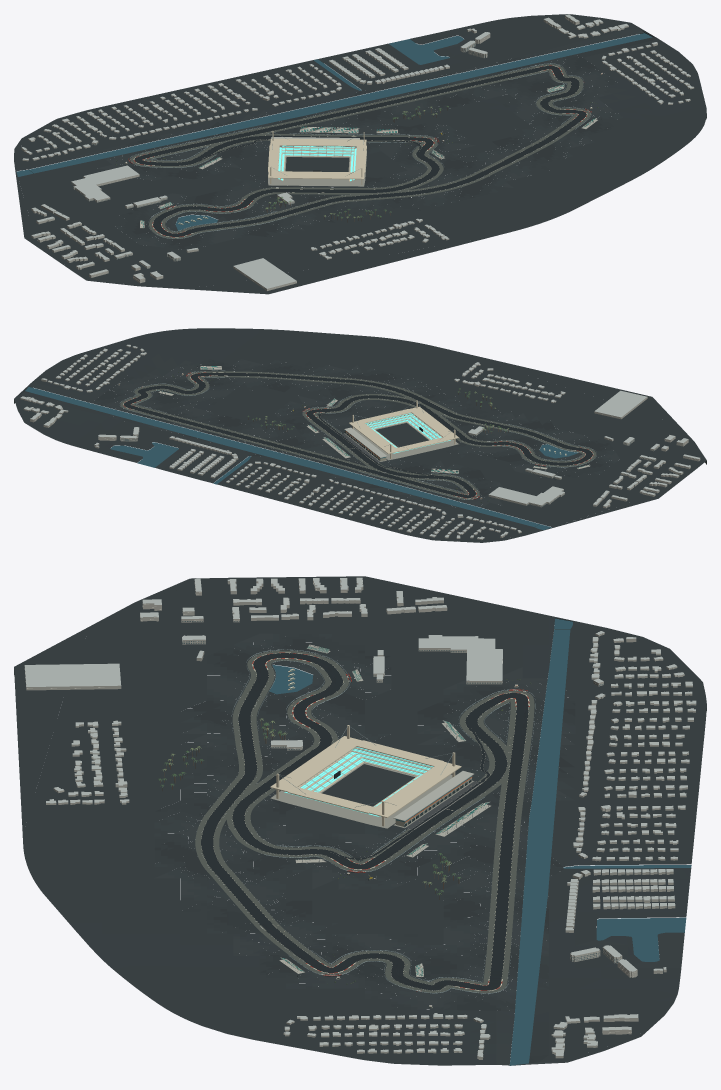
File: Miami.glb
The picture shows the model from 3 angles, top to bottom: view 1: azimuth 30°, elevation 25°; view 2: azimuth 150°, elevation 25°; view 3: azimuth 270°, elevation 25°; orthographic projection. The views are drawn at different scales.
Parts seen in each view (by area): view 1: terrain/ground, terrain-ground-finish-1, road/asphalt, terrain-ground-finish-3, terrain-ground-finish-2, runoff/runoff, terrain-ground-finish-0, terrain-ground-finish-4, water-2/water, terrain-extension/land, shoulder/runoff, hero-01/cream (+10 smaller); view 2: terrain/ground, terrain-ground-finish-1, road/asphalt, terrain-ground-finish-2, terrain-ground-finish-3, runoff/runoff, terrain-ground-finish-0, terrain-ground-finish-4, water-2/water, terrain-extension/land, shoulder/runoff, hero-01/cream (+10 smaller); view 3: terrain/ground, terrain-ground-finish-1, road/asphalt, terrain-ground-finish-2, terrain-ground-finish-3, runoff/runoff, terrain-ground-finish-0, terrain-ground-finish-4, water-2/water, terrain-extension/land, hero-01/cream, shoulder/runoff (+14 smaller).
Part boxes in pixels (box(x1,y1,x2,y2)): terrain/ground: box(14, 15, 706, 287); terrain-ground-finish-1: box(120, 55, 618, 249); road/asphalt: box(134, 65, 586, 236); terrain-ground-finish-3: box(104, 53, 622, 247); terrain-ground-finish-2: box(113, 53, 617, 247); runoff/runoff: box(130, 64, 590, 238); terrain-ground-finish-0: box(127, 57, 610, 249); terrain-ground-finish-4: box(98, 60, 611, 246); water-2/water: box(29, 33, 652, 173); terrain-extension/land: box(14, 14, 657, 294); shoulder/runoff: box(134, 65, 587, 237); hero-01/cream: box(268, 131, 366, 184); terrain/ground: box(20, 328, 696, 542); terrain-ground-finish-1: box(93, 359, 612, 507); road/asphalt: box(123, 372, 592, 498); terrain-ground-finish-2: box(92, 358, 613, 508); terrain-ground-finish-3: box(105, 359, 615, 507); runoff/runoff: box(120, 371, 596, 499); terrain-ground-finish-0: box(96, 360, 609, 506); terrain-ground-finish-4: box(115, 360, 619, 506); water-2/water: box(25, 387, 538, 527); terrain-extension/land: box(14, 348, 706, 542); shoulder/runoff: box(123, 372, 593, 498); hero-01/cream: box(349, 400, 459, 458); terrain/ground: box(23, 578, 706, 1065); terrain-ground-finish-1: box(154, 634, 575, 1011); road/asphalt: box(201, 653, 528, 990); terrain-ground-finish-2: box(154, 633, 574, 1011); terrain-ground-finish-3: box(154, 634, 575, 1009); runoff/runoff: box(195, 650, 534, 993); terrain-ground-finish-0: box(154, 639, 575, 1010); terrain-ground-finish-4: box(155, 633, 574, 1004); water-2/water: box(509, 630, 570, 1065); terrain-extension/land: box(14, 576, 706, 1065); hero-01/cream: box(270, 725, 461, 826); shoulder/runoff: box(200, 652, 529, 991).
Bounding box in the file's own units: 2211 × 69 × 1318.
